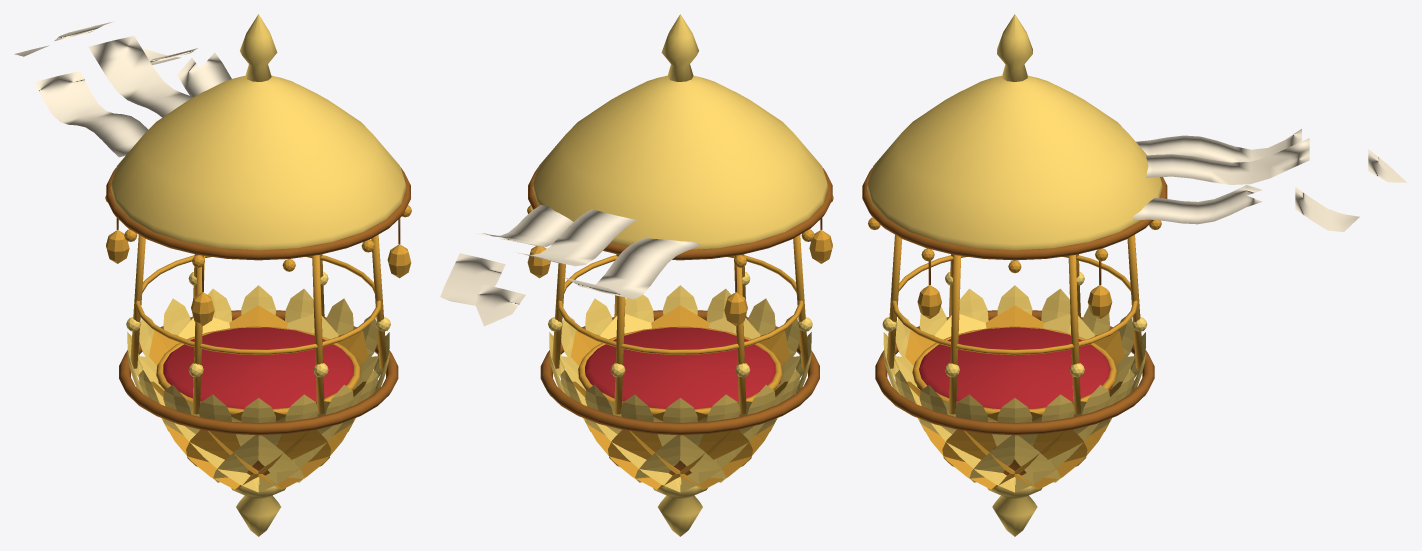
Rendered from lotus_chariot.glb.
The picture shows the model from 3 angles, left to right: view 1: azimuth 30°, elevation 25°; view 2: azimuth 150°, elevation 25°; view 3: azimuth 270°, elevation 25°; orthographic projection.
Visible parts, largest first — view 1: canopy__chariot_gold_light, base__chariot_gold_light_flat, seat__chariot_cushion_red, cloth__chariot_cloth, posts__chariot_gold, base__chariot_gold_flat, base__chariot_gold_dark, canopy__chariot_gold_dark, lanterns__chariot_gold_flat, base__chariot_gold_light, seat__chariot_gold, posts__chariot_gold_light_flat (+1 smaller); view 2: canopy__chariot_gold_light, base__chariot_gold_light_flat, cloth__chariot_cloth, seat__chariot_cushion_red, base__chariot_gold_flat, posts__chariot_gold, base__chariot_gold_dark, canopy__chariot_gold_dark, lanterns__chariot_gold_flat, base__chariot_gold_light, seat__chariot_gold, posts__chariot_gold_light_flat; view 3: canopy__chariot_gold_light, base__chariot_gold_light_flat, cloth__chariot_cloth, seat__chariot_cushion_red, posts__chariot_gold, base__chariot_gold_flat, base__chariot_gold_dark, canopy__chariot_gold_dark, base__chariot_gold_light, lanterns__chariot_gold_flat, seat__chariot_gold, posts__chariot_gold_light_flat (+1 smaller).
Boxes of the visible parts, x1=… form: canopy__chariot_gold_light: x1=110, y1=14, x2=406, y2=250; base__chariot_gold_light_flat: x1=127, y1=285, x2=389, y2=492; seat__chariot_cushion_red: x1=158, y1=327, x2=353, y2=409; cloth__chariot_cloth: x1=14, y1=22, x2=231, y2=157; posts__chariot_gold: x1=130, y1=234, x2=386, y2=414; base__chariot_gold_flat: x1=149, y1=305, x2=368, y2=489; base__chariot_gold_dark: x1=119, y1=310, x2=398, y2=475; canopy__chariot_gold_dark: x1=106, y1=167, x2=410, y2=260; lanterns__chariot_gold_flat: x1=106, y1=230, x2=411, y2=325; base__chariot_gold_light: x1=231, y1=477, x2=285, y2=536; seat__chariot_gold: x1=156, y1=326, x2=360, y2=414; posts__chariot_gold_light_flat: x1=126, y1=271, x2=390, y2=377; canopy__chariot_gold_light: x1=532, y1=14, x2=828, y2=249; base__chariot_gold_light_flat: x1=549, y1=285, x2=811, y2=492; cloth__chariot_cloth: x1=440, y1=205, x2=700, y2=326; seat__chariot_cushion_red: x1=585, y1=327, x2=780, y2=409; base__chariot_gold_flat: x1=570, y1=305, x2=789, y2=489; posts__chariot_gold: x1=552, y1=235, x2=808, y2=414; base__chariot_gold_dark: x1=540, y1=310, x2=819, y2=475; canopy__chariot_gold_dark: x1=528, y1=167, x2=832, y2=260; lanterns__chariot_gold_flat: x1=527, y1=230, x2=832, y2=325; base__chariot_gold_light: x1=653, y1=477, x2=707, y2=536; seat__chariot_gold: x1=578, y1=326, x2=782, y2=414; posts__chariot_gold_light_flat: x1=548, y1=272, x2=812, y2=377; canopy__chariot_gold_light: x1=867, y1=14, x2=1162, y2=250; base__chariot_gold_light_flat: x1=883, y1=285, x2=1145, y2=492; cloth__chariot_cloth: x1=1133, y1=129, x2=1406, y2=231; seat__chariot_cushion_red: x1=917, y1=327, x2=1112, y2=408; posts__chariot_gold: x1=887, y1=234, x2=1142, y2=414; base__chariot_gold_flat: x1=905, y1=305, x2=1124, y2=489; base__chariot_gold_dark: x1=875, y1=310, x2=1154, y2=475; canopy__chariot_gold_dark: x1=862, y1=168, x2=1167, y2=260; base__chariot_gold_light: x1=987, y1=477, x2=1042, y2=536; lanterns__chariot_gold_flat: x1=917, y1=285, x2=1112, y2=318; seat__chariot_gold: x1=912, y1=326, x2=1117, y2=414; posts__chariot_gold_light_flat: x1=882, y1=271, x2=1147, y2=377.
Size of the model in its own units: 3.26 by 6.1 by 5.76.
